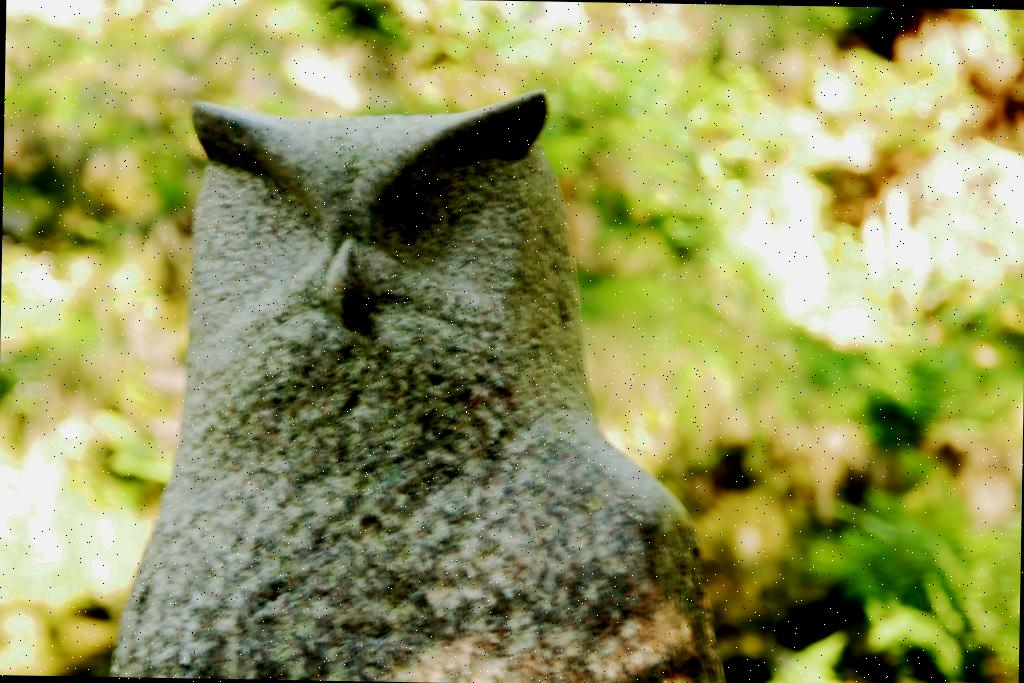Owl: (107, 83, 732, 683)
